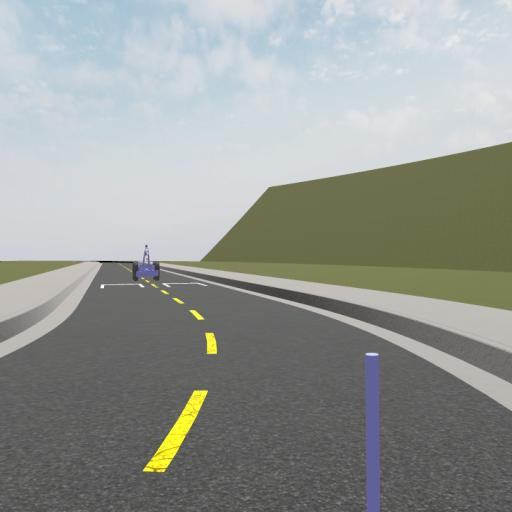ERP-42: (134, 243, 160, 283)
